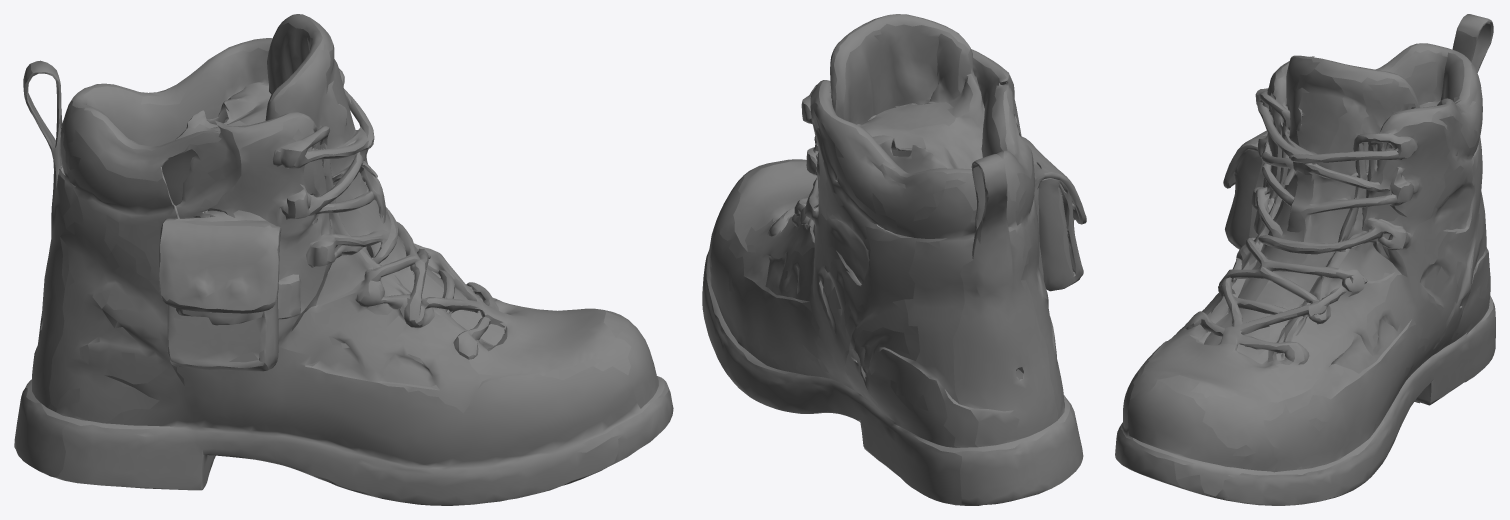
File: completion_boot_2.glb
3 views of the same model, side by side, from view 1: azimuth 30°, elevation 25°; view 2: azimuth 150°, elevation 25°; view 3: azimuth 270°, elevation 25° (orthographic). The views are drawn at different scales.
Parts seen in each view (by area): view 1: geometry_0; view 2: geometry_0; view 3: geometry_0.
Boxes of the visible parts, x1=… form: geometry_0: x1=14, y1=14, x2=673, y2=505; geometry_0: x1=702, y1=14, x2=1086, y2=505; geometry_0: x1=1115, y1=14, x2=1495, y2=505.
Size of the model in its own units: 1 by 0.8232 by 0.7626.
Materials: 1 (1 with a texture image).
